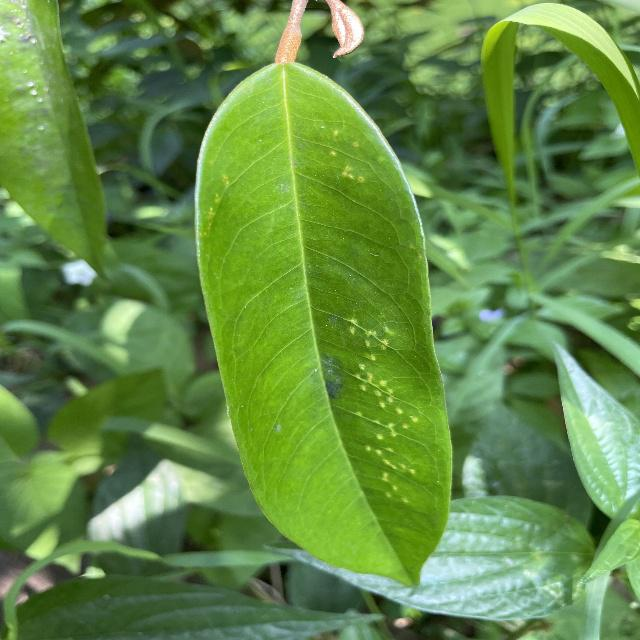Leaf Spot: (181, 45, 461, 596)
